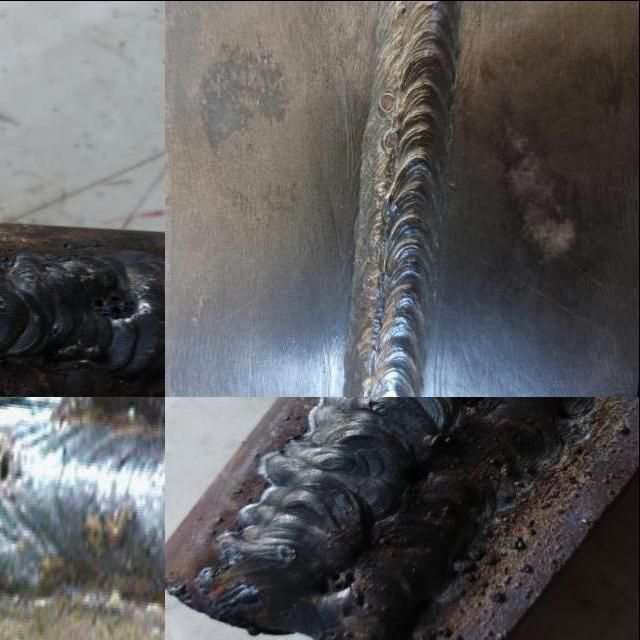defect: (85, 286, 146, 323), (308, 562, 365, 598), (0, 435, 16, 495), (399, 463, 429, 486), (377, 83, 397, 114), (368, 233, 388, 260), (366, 270, 386, 294), (384, 125, 401, 153), (274, 543, 297, 558), (0, 296, 13, 314), (397, 0, 409, 15)
